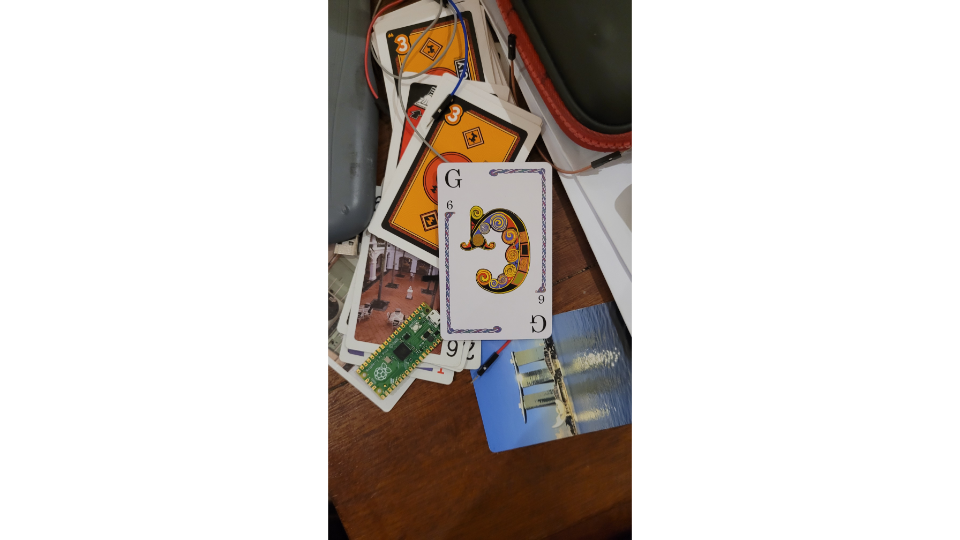G: (434, 161, 557, 342)
